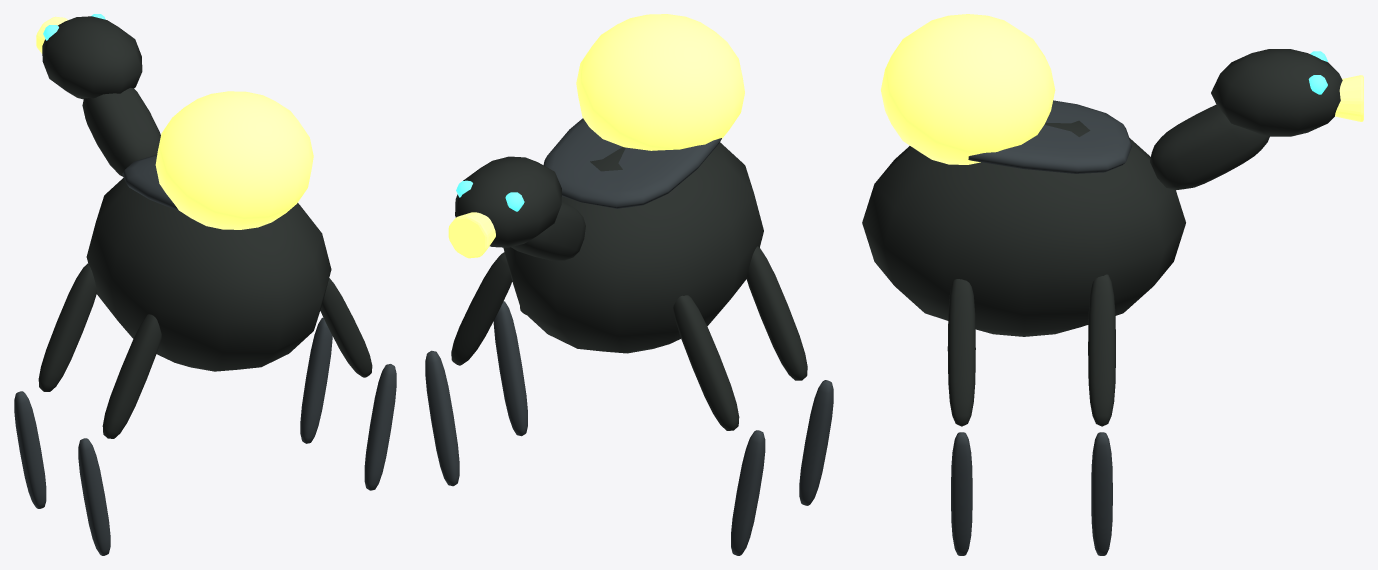
The model's file is spitter.glb.
3 views of the same model, side by side, from view 1: azimuth 30°, elevation 25°; view 2: azimuth 150°, elevation 25°; view 3: azimuth 270°, elevation 25° (orthographic). The views are drawn at different scales.
Visible parts, largest first — view 1: torso, sac, head, neck, thighL0, thighL1, shinR1, shinR0, thighR1, shinL0, shinL1, back_plate; view 2: torso, sac, back_plate, head, thighL0, thighL1, thighR0, shinR0, shinR1, shinL1, shinL0, neck (+1 smaller); view 3: torso, sac, head, back_plate, neck, thighR0, thighR1, shinR0, shinR1, mouth.
Boxes of the visible parts, x1,y1,x2,y2 form: torso: (86, 177, 331, 371); sac: (155, 91, 313, 229); head: (42, 16, 142, 99); neck: (82, 88, 160, 176); thighL0: (38, 263, 96, 391); thighL1: (102, 314, 161, 438); shinR1: (364, 364, 396, 490); shinR0: (300, 317, 332, 443); thighR1: (320, 278, 372, 377); shinL0: (14, 391, 46, 508); shinL1: (78, 438, 110, 555); back_plate: (122, 154, 178, 210); torso: (503, 142, 763, 353); sac: (576, 14, 744, 150); back_plate: (543, 118, 721, 208); head: (455, 156, 561, 247); thighL0: (673, 295, 739, 430); thighL1: (746, 246, 807, 380); thighR0: (451, 252, 512, 365); shinR0: (425, 350, 459, 486); shinR1: (493, 301, 527, 436); shinL1: (799, 380, 833, 505); shinL0: (731, 430, 765, 555); neck: (511, 202, 585, 260); torso: (862, 120, 1185, 336); sac: (881, 14, 1055, 164); head: (1211, 49, 1342, 136); back_plate: (968, 100, 1131, 173); neck: (1150, 104, 1269, 190); thighR0: (1088, 274, 1115, 426); thighR1: (947, 279, 975, 426); shinR0: (1091, 432, 1112, 555); shinR1: (951, 432, 972, 555); mouth: (1335, 75, 1363, 121).
Size of the model in its own units: 1.28 by 1.63 by 1.61.
